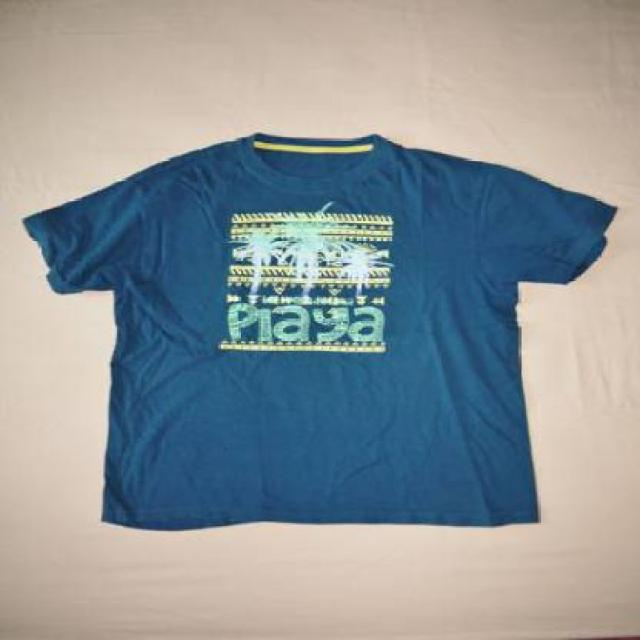shirt: (24, 116, 625, 541)
